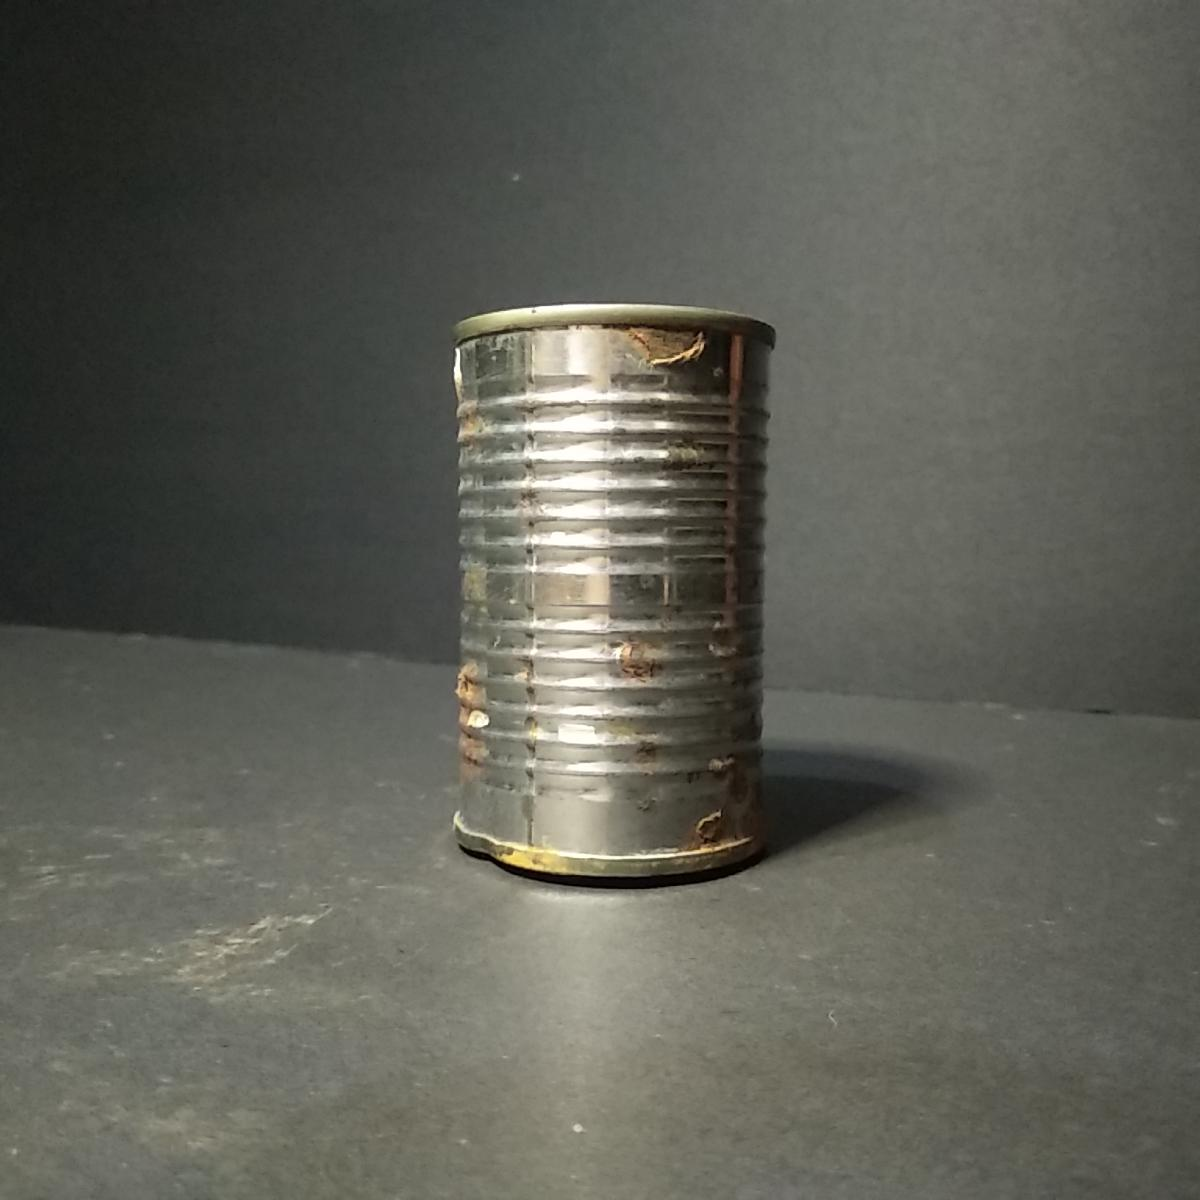Major Defect: (444, 300, 779, 892)
